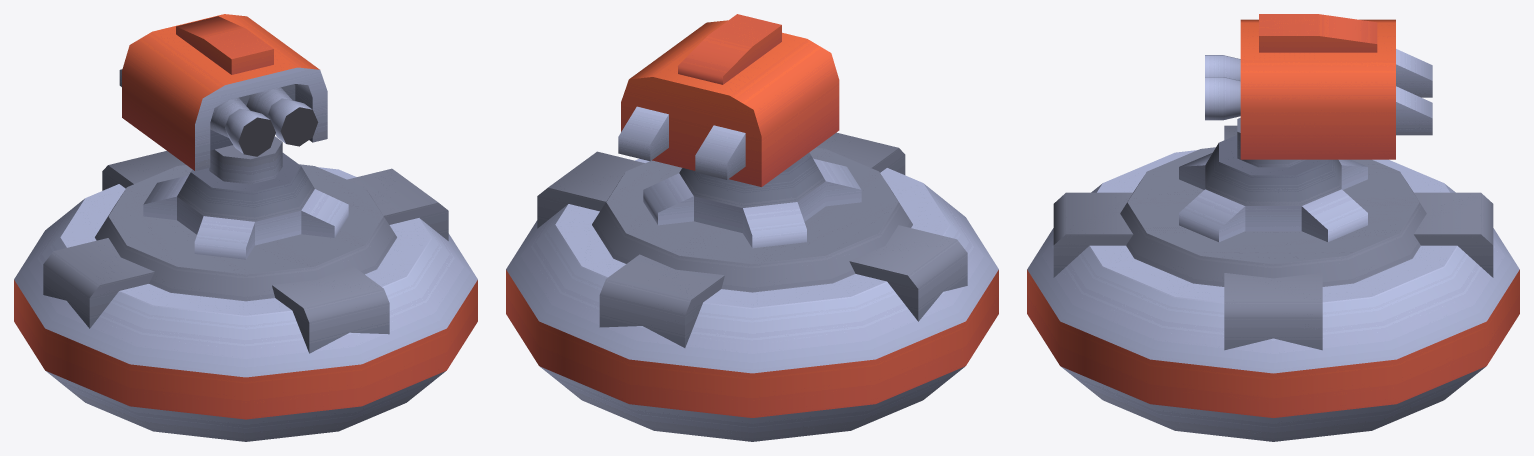
Rendered from enemy-ufo-a-weapon.glb.
3 views of the same model, side by side, from view 1: azimuth 30°, elevation 25°; view 2: azimuth 150°, elevation 25°; view 3: azimuth 270°, elevation 25° (orthographic). The views are drawn at different scales.
Visible parts, largest first — view 1: enemy-ufo-a-weapon, enemy-ufo-a-weapon.001; view 2: enemy-ufo-a-weapon, enemy-ufo-a-weapon.001; view 3: enemy-ufo-a-weapon, enemy-ufo-a-weapon.001.
Boxes of the visible parts, box(x1,y1,x2,y2) form: enemy-ufo-a-weapon: box(14, 136, 477, 441); enemy-ufo-a-weapon.001: box(119, 14, 327, 171); enemy-ufo-a-weapon: box(506, 132, 998, 441); enemy-ufo-a-weapon.001: box(618, 14, 839, 186); enemy-ufo-a-weapon: box(1027, 118, 1519, 441); enemy-ufo-a-weapon.001: box(1205, 14, 1432, 159).
Size of the model in its own units: 3 by 2.24 by 3.
Materials: 1 (1 with a texture image).
